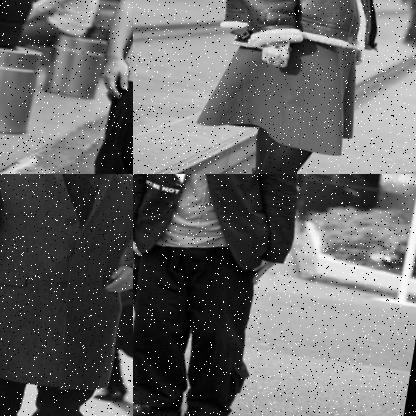jacket: (0, 174, 133, 406), (133, 174, 317, 265)
pants: (133, 230, 268, 416), (0, 369, 91, 416)
polar: (211, 0, 404, 61)
shirt: (91, 0, 133, 112)
skirt: (193, 22, 367, 159)
